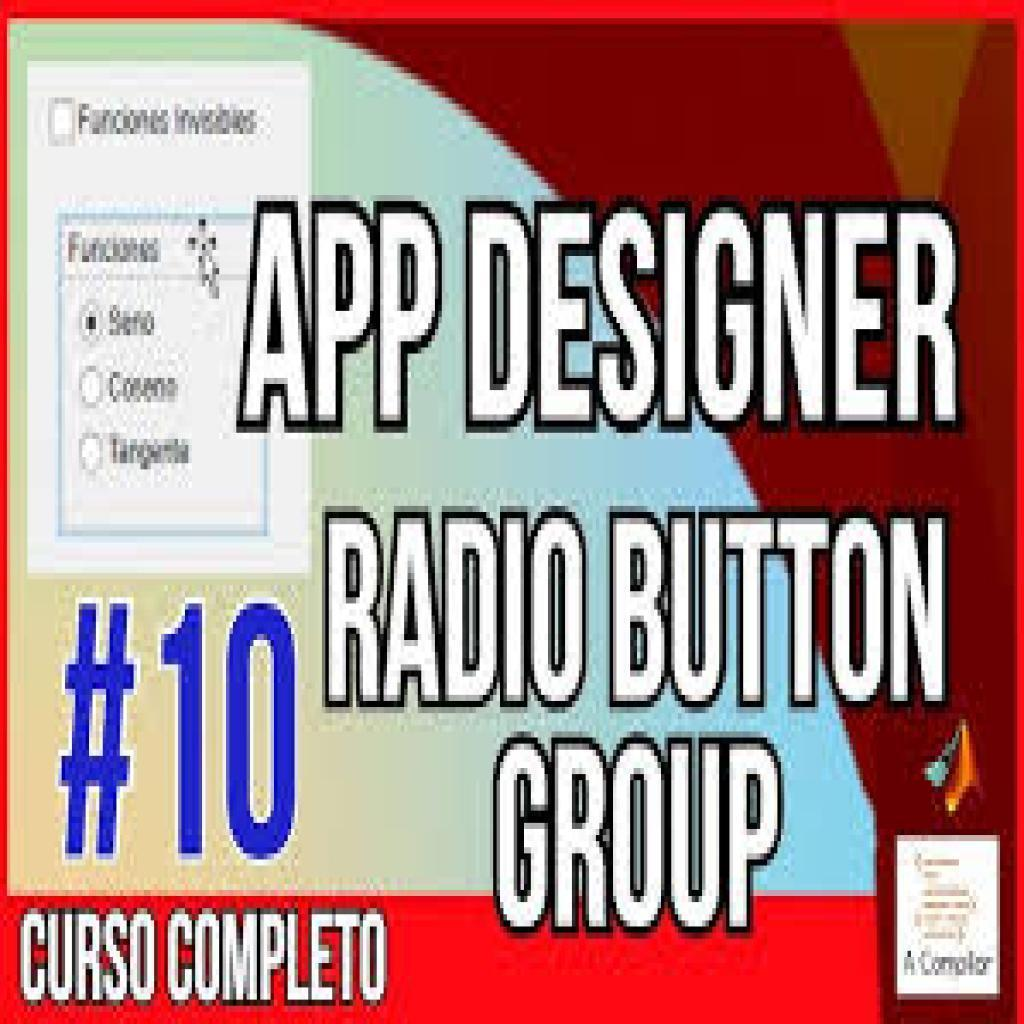checkbox: (46, 94, 78, 143)
radio: (77, 426, 109, 495), (79, 358, 104, 420), (76, 297, 104, 345)
